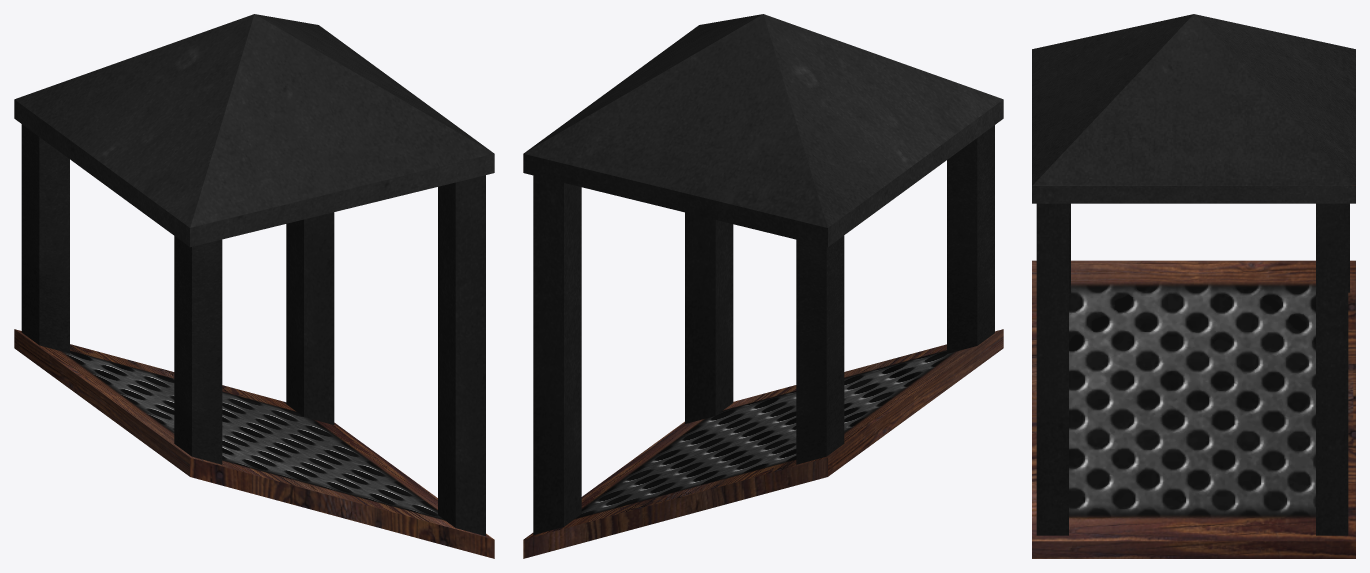
The model's file is ShackFlueSloped.fbx.
3 renders of one model, left to right at view 1: azimuth 30°, elevation 25°; view 2: azimuth 150°, elevation 25°; view 3: azimuth 270°, elevation 25°, orthographic. The views are drawn at different scales.
Visible parts, largest first — view 1: ShackFlueSloped; view 2: ShackFlueSloped; view 3: ShackFlueSloped.
Boxes of the visible parts, left/top/right/bottom form: ShackFlueSloped: left=14, top=14, right=494, bottom=558; ShackFlueSloped: left=523, top=14, right=1003, bottom=558; ShackFlueSloped: left=1032, top=14, right=1355, bottom=558.
Size of the model in its own units: 50 by 81.23 by 50.
